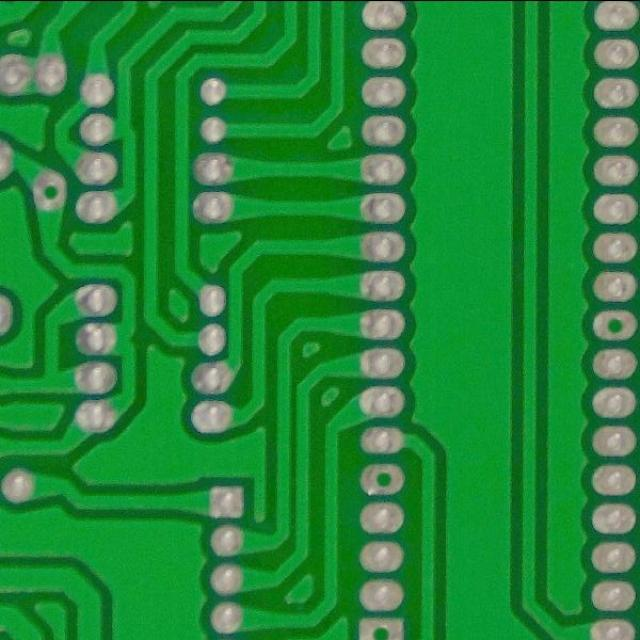missing_hole: (591, 300, 639, 346), (358, 458, 406, 498), (28, 168, 67, 214), (355, 611, 403, 639)
